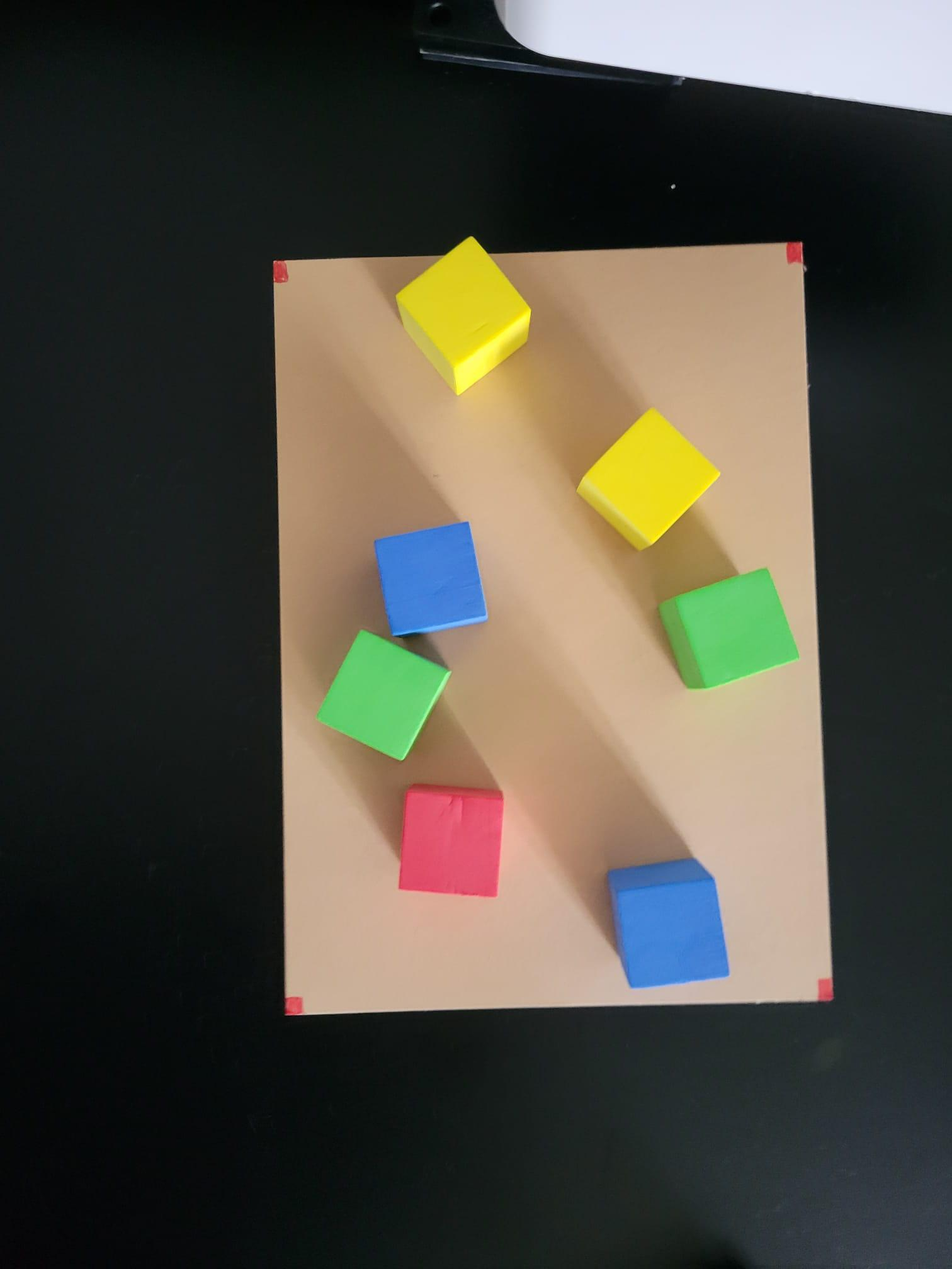cube: (401, 239, 534, 393), (581, 411, 722, 544), (324, 633, 452, 760), (666, 570, 798, 691), (609, 859, 729, 987), (376, 521, 485, 637), (398, 788, 504, 894)
